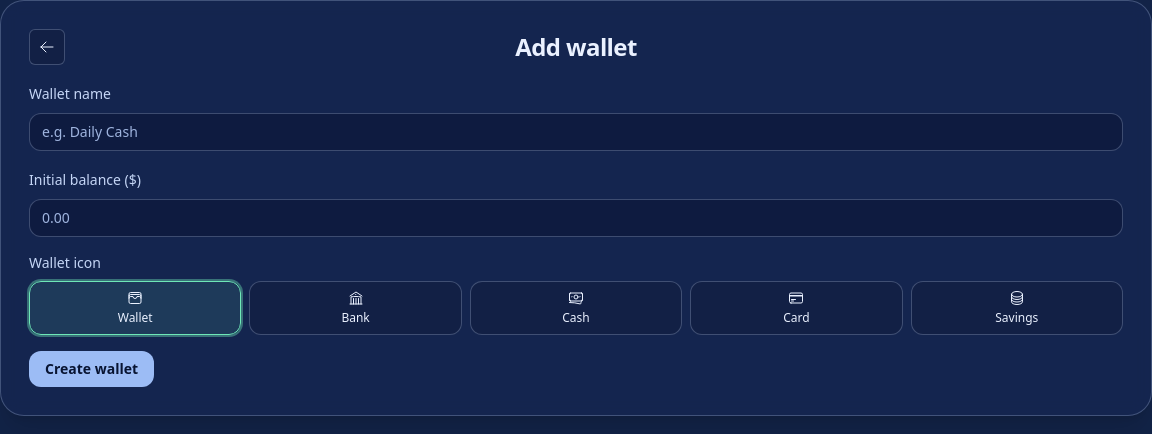
Test case: WalletCreatePage › creates a wallet and navigates back to wallet management
expect the heading "Add wallet" is shown: met, box x1=515 y1=30 x2=637 y2=63
Type "Savings" into the field labelled "Wallet name" at (576, 132), box x1=29 y1=113 x2=1123 y2=151
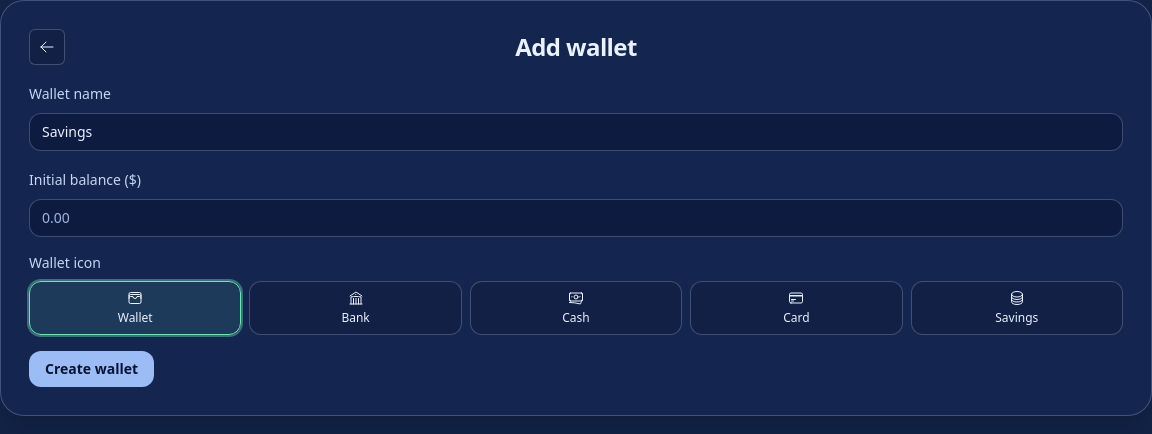
Type "250.50" into the field labelled "Initial balance ($)" at (576, 218), box x1=29 y1=199 x2=1123 y2=237
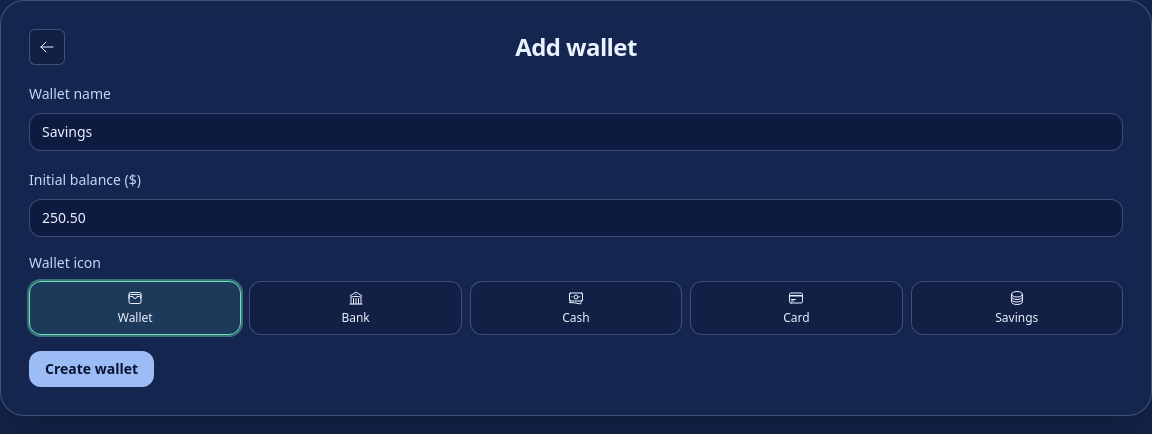
Click the button "Create wallet" at (92, 369), box x1=29 y1=351 x2=154 y2=387
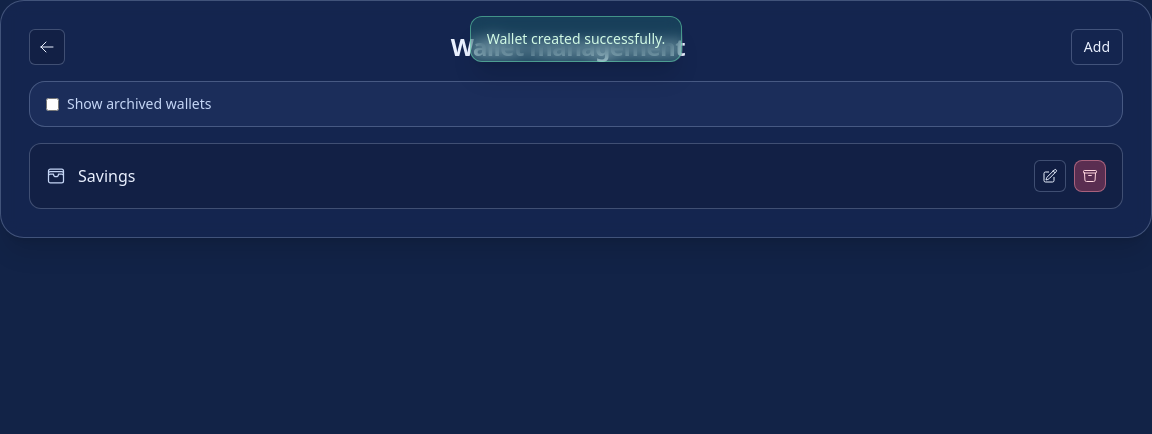
expect the heading "Wallet management" is shown: met, box x1=451 y1=30 x2=685 y2=63
